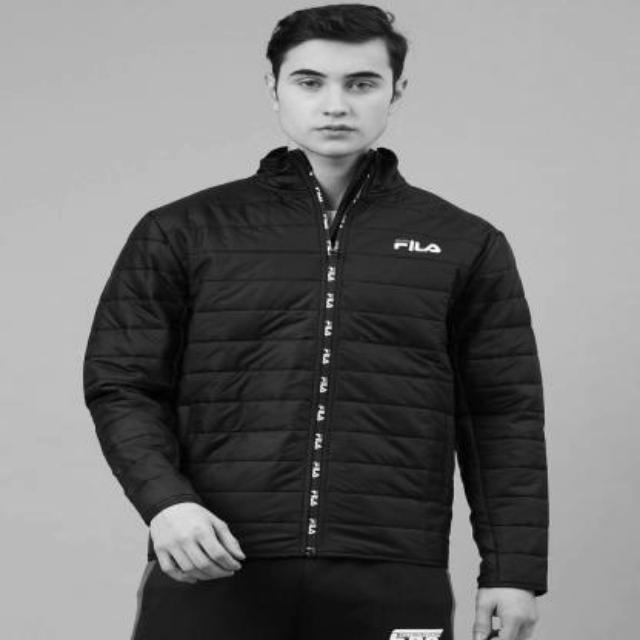FILA_original: (383, 227, 452, 265)
